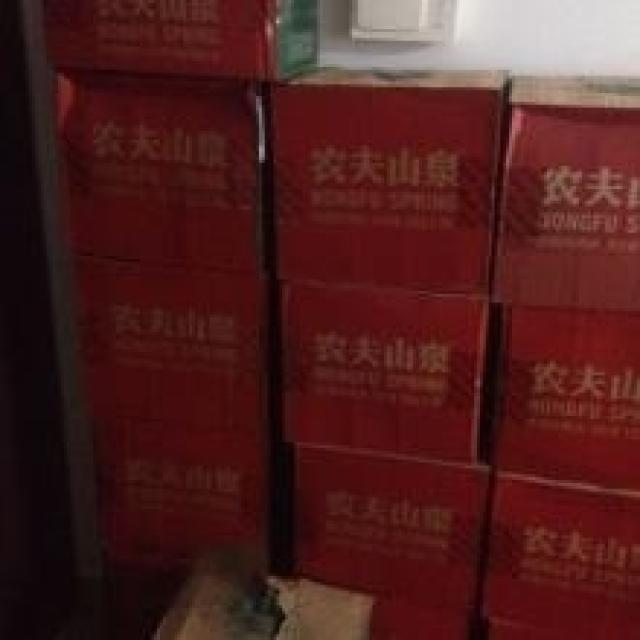box: (276, 64, 509, 297), (55, 70, 259, 271), (279, 279, 492, 465), (495, 76, 640, 317), (67, 262, 259, 433), (294, 448, 489, 602), (90, 422, 268, 573), (497, 308, 640, 492), (486, 477, 640, 617), (41, 0, 279, 81), (489, 608, 640, 640), (375, 591, 471, 640)
